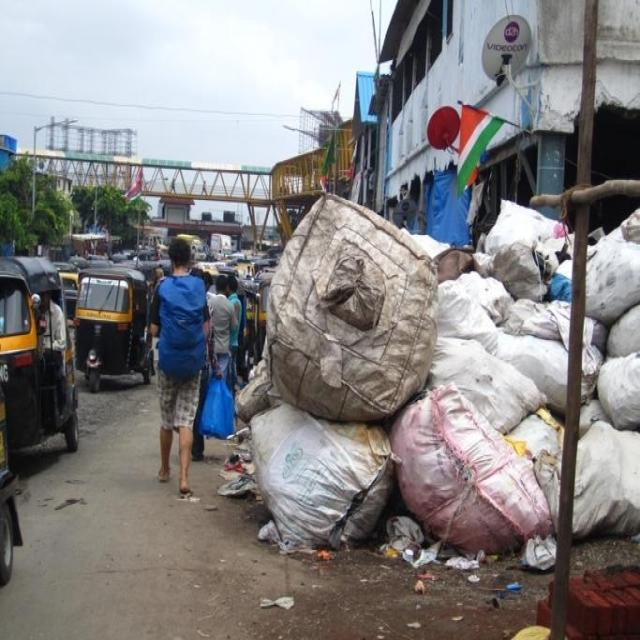garbage: (216, 194, 574, 576)
